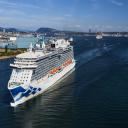cruises: (8, 34, 79, 107), (96, 33, 104, 42)
